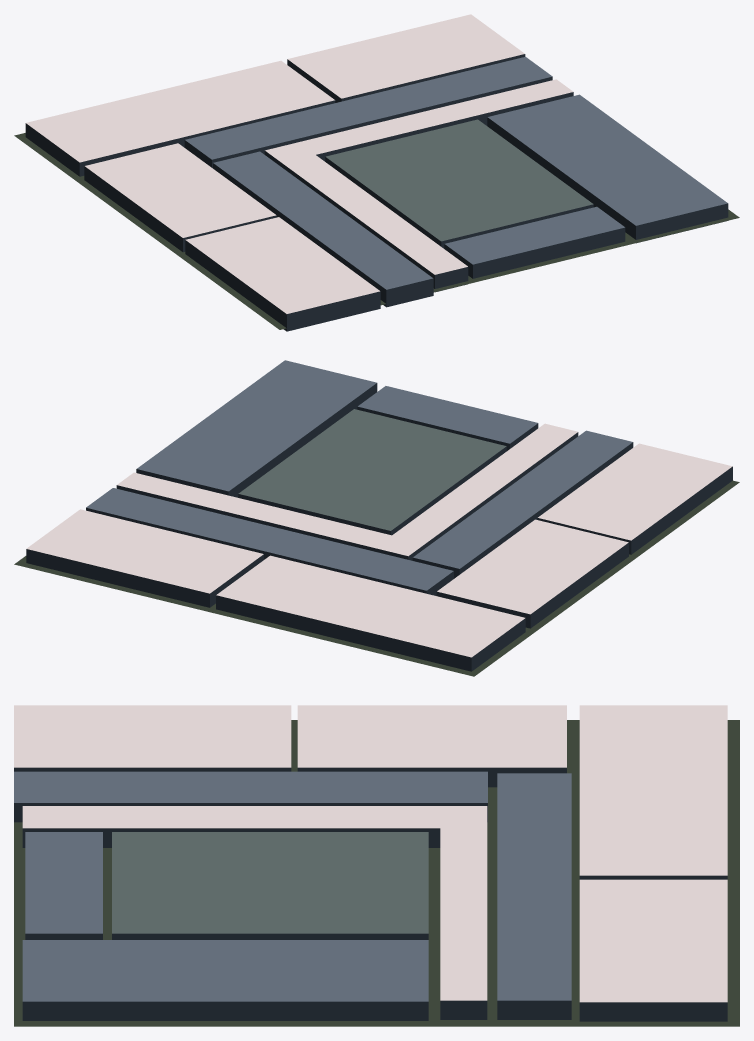
Rendered from Environment_Floor_4_TrimCorner.fbx.
3 renders of one model, top to bottom at view 1: azimuth 30°, elevation 25°; view 2: azimuth 150°, elevation 25°; view 3: azimuth 270°, elevation 25°, orthographic. The views are drawn at different scales.
Parts seen in each view (by area): view 1: Floor_4_TrimCorner; view 2: Floor_4_TrimCorner; view 3: Floor_4_TrimCorner.
Boxes of the visible parts, x1,y1,x2,y2 form: Floor_4_TrimCorner: (14, 14, 739, 331); Floor_4_TrimCorner: (14, 360, 739, 676); Floor_4_TrimCorner: (14, 705, 739, 1026).
Size of the model in its own units: 400 by 14.56 by 400.
